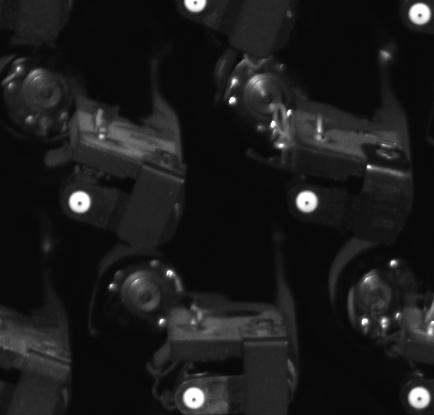fiber: (290, 187, 324, 216), (63, 187, 95, 217), (404, 383, 434, 413), (179, 384, 211, 412), (406, 1, 434, 30), (180, 1, 216, 16)
